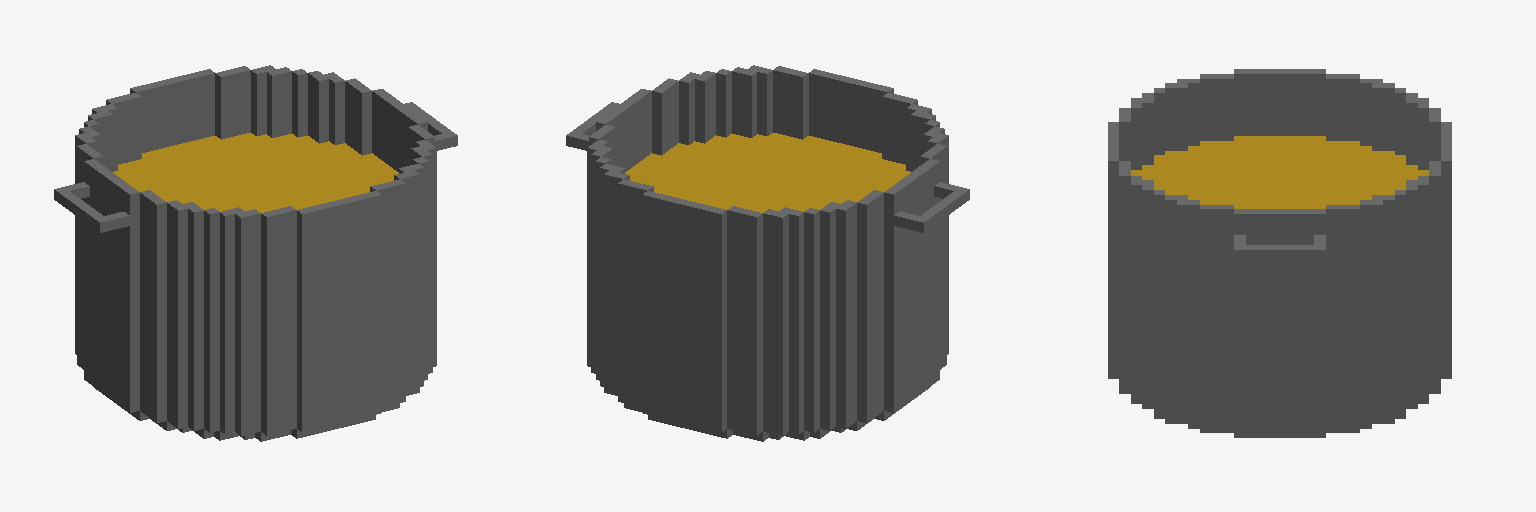
3 views of the same model, side by side, from view 1: azimuth 30°, elevation 25°; view 2: azimuth 150°, elevation 25°; view 3: azimuth 270°, elevation 25° (orthographic).
Parts seen in each view (by area): view 1: object 1; view 2: object 1; view 3: object 1.
Part boxes in pixels (x1,y1,x2,y2): object 1: (54,65,457,441); object 1: (566,65,969,441); object 1: (1108,69,1451,437).
Size of the model in its own units: 3.6 by 2.2 by 3.
Materials: 1 (1 with a texture image).